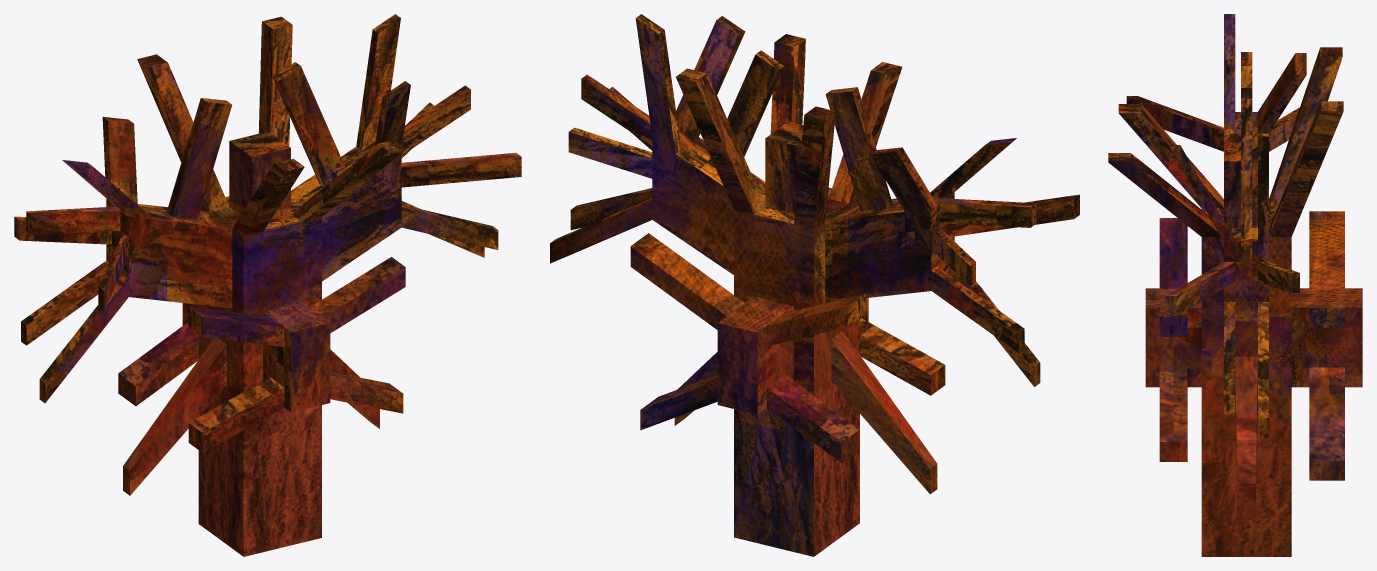
The model's file is thing_2.fbx.
3 views of the same model, side by side, from view 1: azimuth 30°, elevation 25°; view 2: azimuth 150°, elevation 25°; view 3: azimuth 270°, elevation 25° (orthographic). The views are drawn at different scales.
Visible parts, largest first — view 1: Cube; view 2: Cube; view 3: Cube.
Part boxes in pixels (x1=…): Cube: x1=14, y1=14, x2=521, y2=556; Cube: x1=550, y1=14, x2=1079, y2=556; Cube: x1=1108, y1=14, x2=1362, y2=556.
Size of the model in its own units: 735 by 720 by 351.
